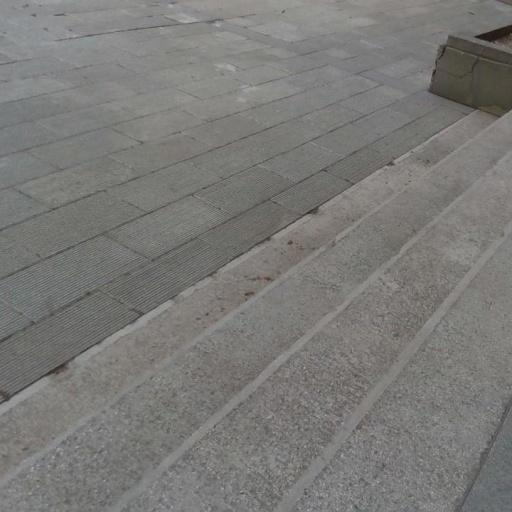stairs: (0, 113, 511, 511)
